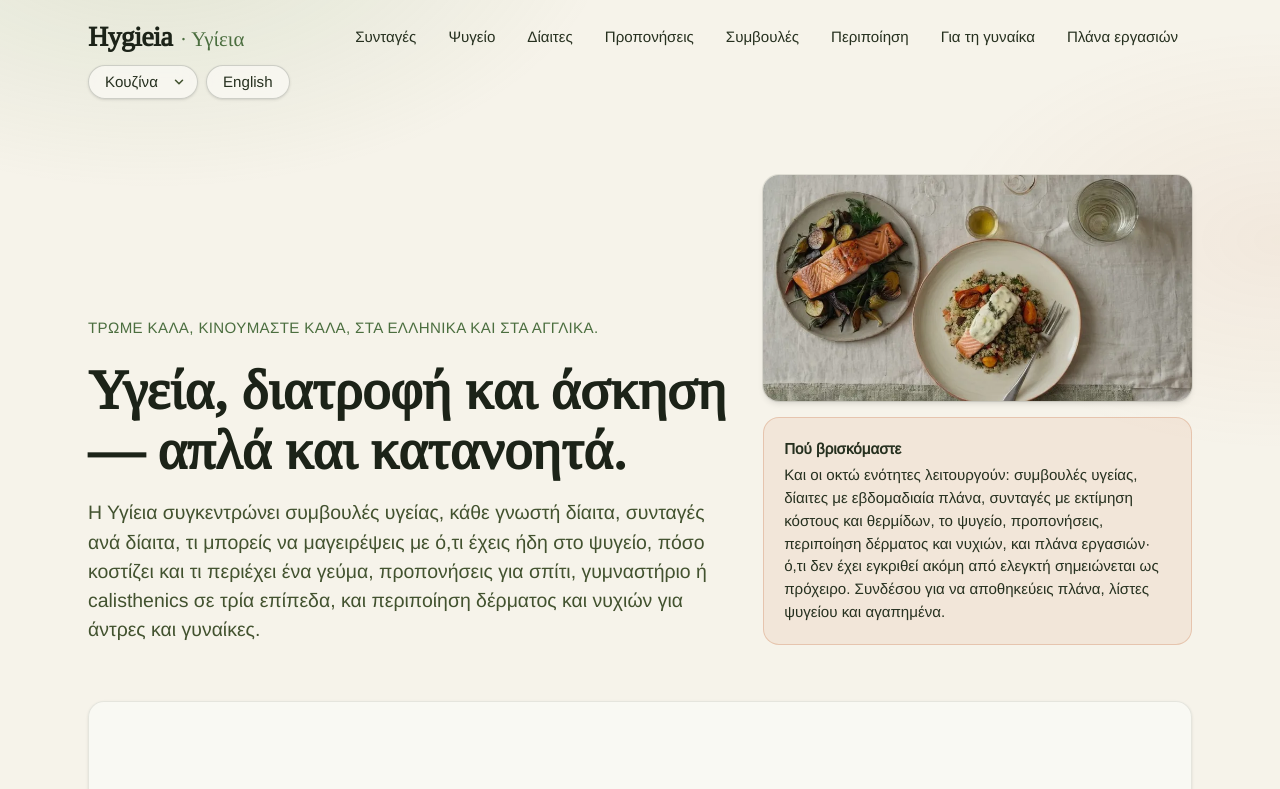
Test: App (home) › switches the whole page to English and back from the header button
The width and height of the screenshot is (1280, 789).
Step 1. Click the button "English" → (248, 82), box [206, 65, 290, 99]
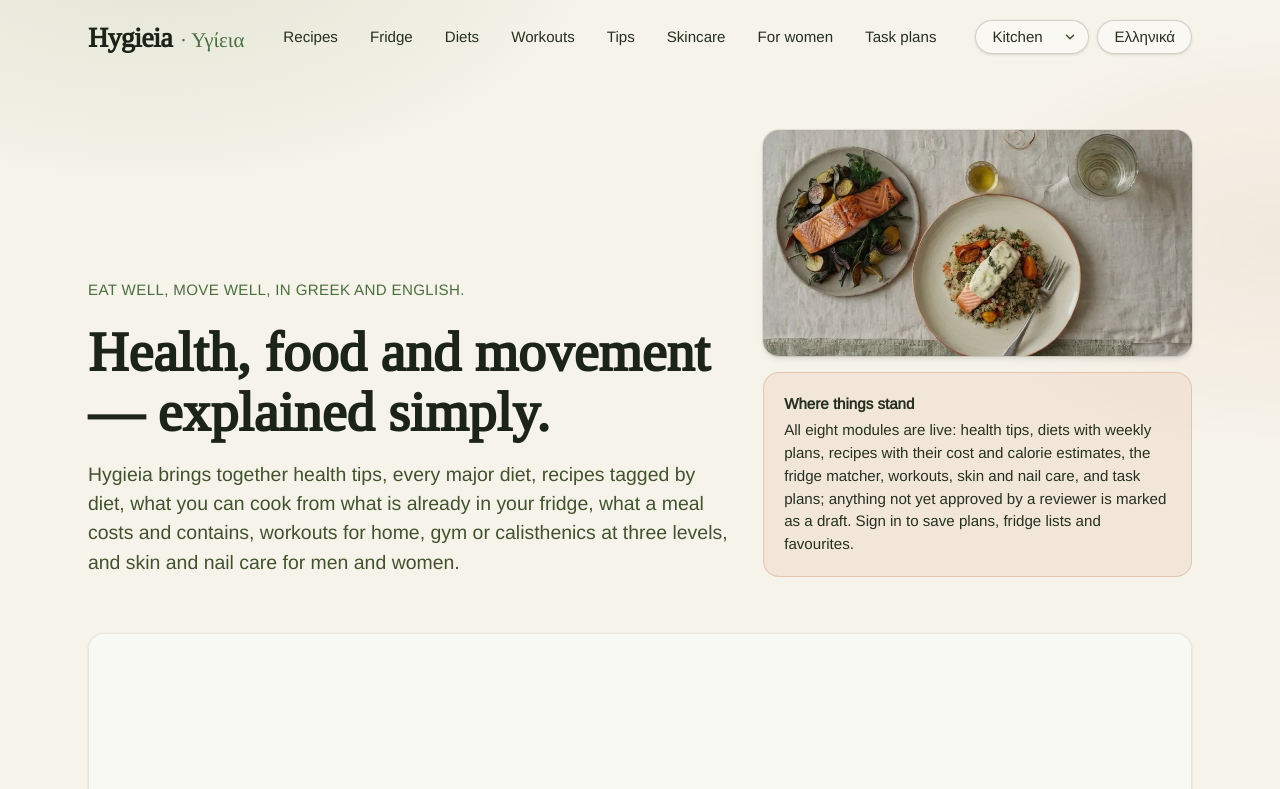
Expected: the heading "Health, food and movement — explained simply." is shown, [88, 320, 731, 440]
Step 2. Click the button "Ελληνικά" → (1145, 37), box [1097, 20, 1192, 54]
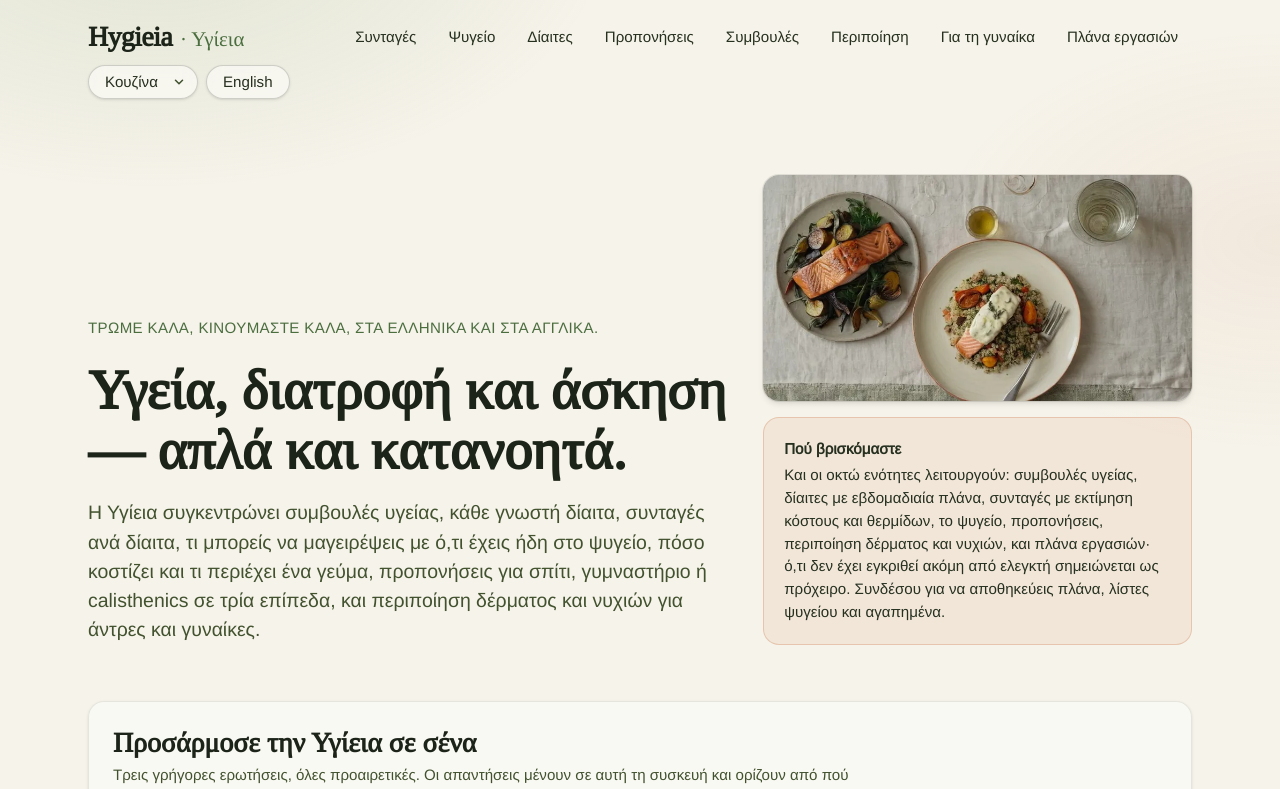
Expected: the heading "Υγεία, διατροφή και άσκηση — απλά και κατανοητά." is shown, [88, 358, 731, 478]
